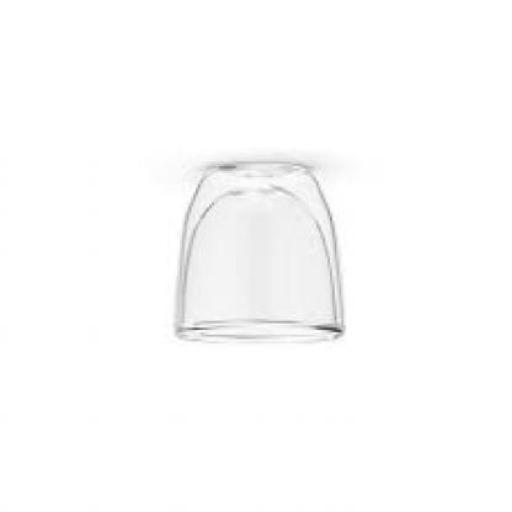glass: (173, 164, 341, 343)
